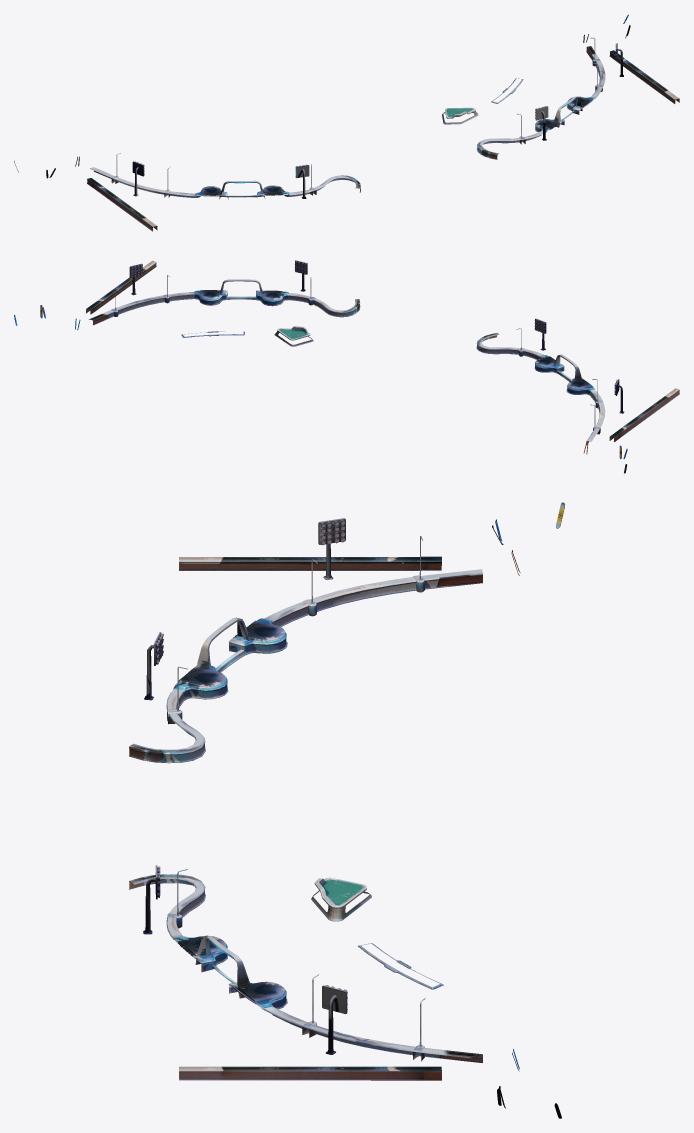
Rendered from pref_sm_beach_winter_bakegroups03_lv1.fbx.
The picture shows the model from 3 angles, top to bottom: view 1: azimuth 30°, elevation 25°; view 2: azimuth 150°, elevation 25°; view 3: azimuth 270°, elevation 25°; orthographic projection. The views are drawn at different scales.
Parts seen in each view (by area): view 1: sm_beach_winter_bakegroups03_a_lv1, sm_beach_winter_bakegroups03_c_lv1, sm_beach_winter_bakegroups03_b_lv1; view 2: sm_beach_winter_bakegroups03_c_lv1, sm_beach_winter_bakegroups03_a_lv1, sm_beach_winter_bakegroups03_b_lv1; view 3: sm_beach_winter_bakegroups03_a_lv1, sm_beach_winter_bakegroups03_c_lv1, sm_beach_winter_bakegroups03_b_lv1.
Boxes of the visible parts, box(x1,y1,x2,y2) form: sm_beach_winter_bakegroups03_a_lv1: box(14, 153, 360, 231); sm_beach_winter_bakegroups03_c_lv1: box(477, 14, 679, 159); sm_beach_winter_bakegroups03_b_lv1: box(442, 78, 523, 124); sm_beach_winter_bakegroups03_c_lv1: box(14, 260, 360, 330); sm_beach_winter_bakegroups03_a_lv1: box(476, 318, 679, 473); sm_beach_winter_bakegroups03_b_lv1: box(181, 326, 313, 346); sm_beach_winter_bakegroups03_a_lv1: box(129, 502, 564, 763); sm_beach_winter_bakegroups03_c_lv1: box(129, 865, 561, 1118); sm_beach_winter_bakegroups03_b_lv1: box(311, 877, 443, 989).
Size of the model in its own units: 160 by 8.78 by 49.33.
1 material, 1 textured.
